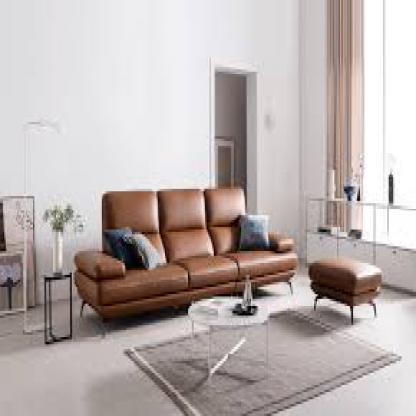sofa: (90, 189, 286, 342)
